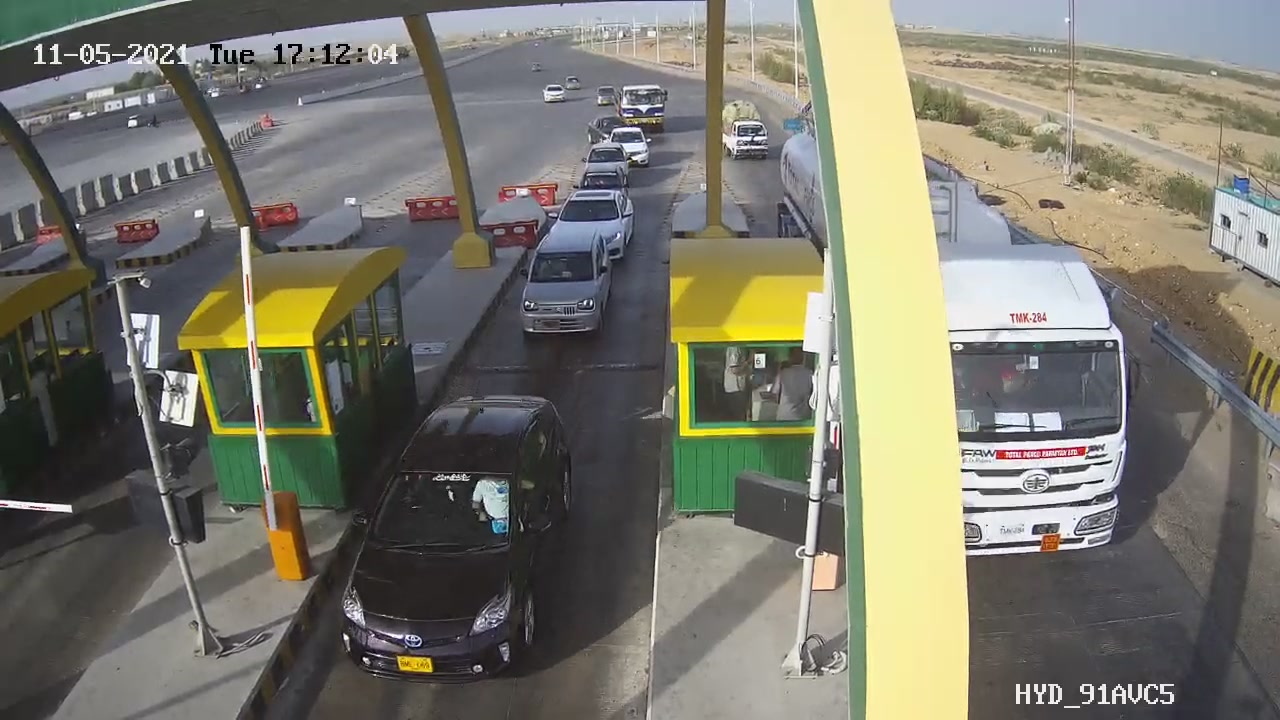F1: (501, 221, 622, 353)
